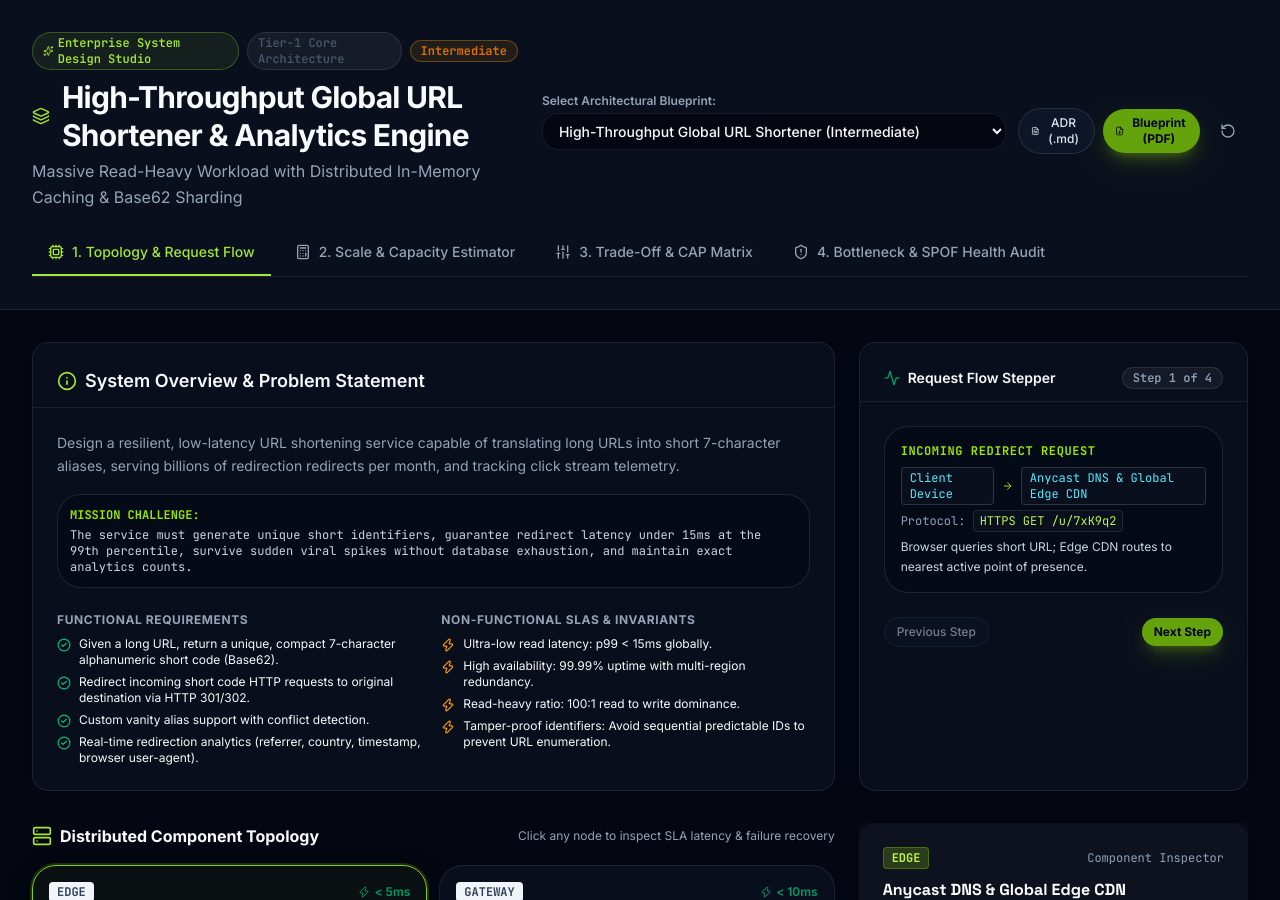
SystemDesignStudioPage › switches to Capacity Estimator tab and recalculates metrics when slider changes
The image size is (1280, 900).
Click the button "2. Scale & Capacity Estimator".
click(405, 259)  # box [279,242,531,276]
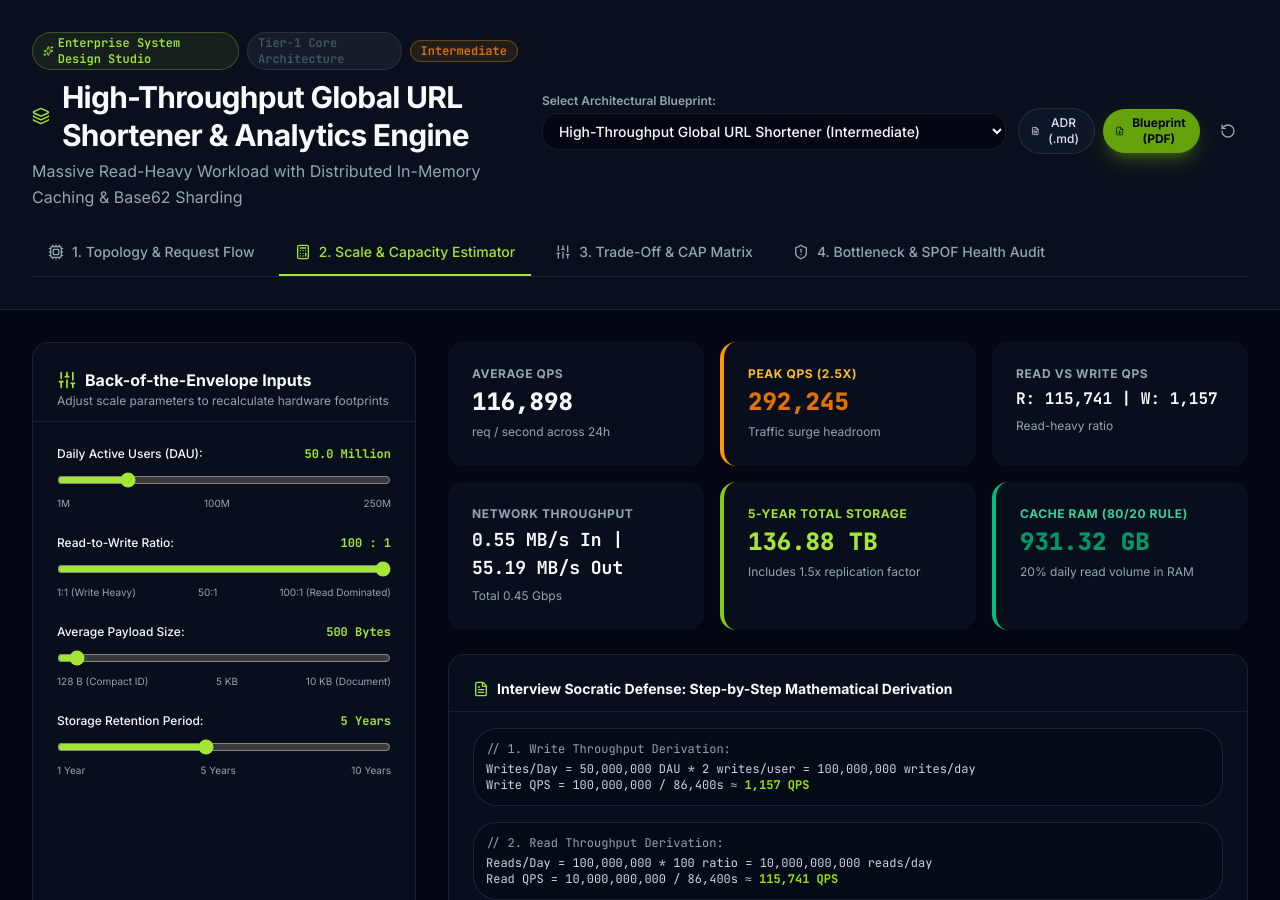
expect the heading "Back-of-the-Envelope Inputs" is shown: met, box [57,370,311,390]
expect the text "Average QPS" is shown: met, box [472,366,563,381]
expect the text "Peak QPS (2.5x)" is shown: met, box [748,366,857,381]
# Adjust DAU slider
Set the slider named "Daily Active Users slider" to "100000000" at coordinates (191, 480), box [57,472,391,488]
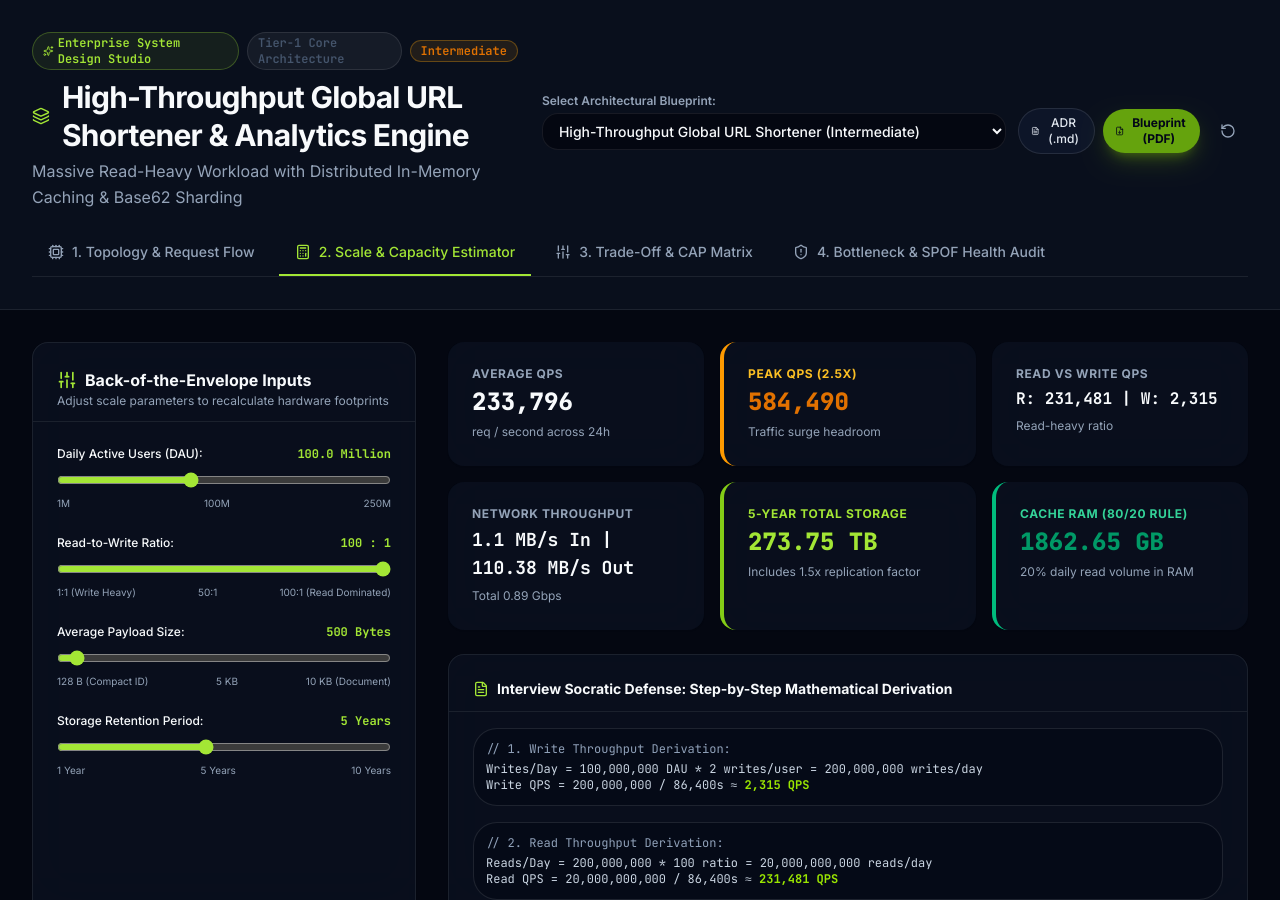
expect the text "100.0 Million" is shown: met, box [297,446,391,462]
